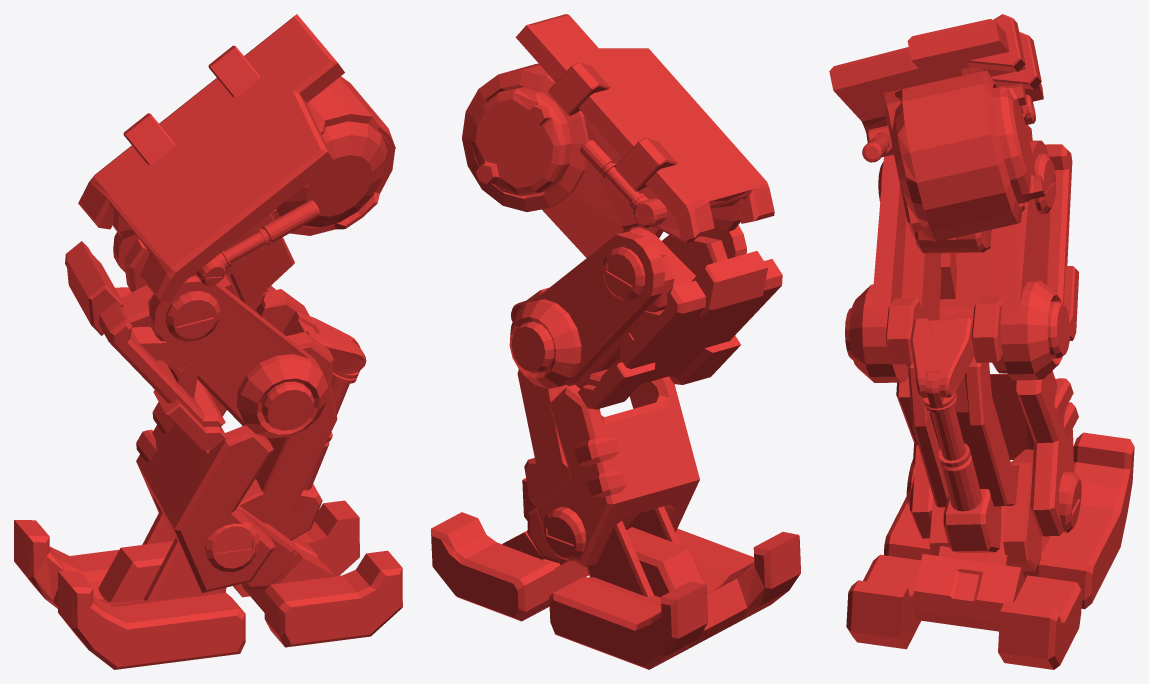
File: left_leg.dae
3 views of the same model, side by side, from view 1: azimuth 30°, elevation 25°; view 2: azimuth 150°, elevation 25°; view 3: azimuth 270°, elevation 25° (orthographic). The views are drawn at different scales.
Visible parts, largest first — view 1: tmp_export_left_leg; view 2: tmp_export_left_leg; view 3: tmp_export_left_leg.
Boxes of the visible parts, bbox=[...] form: tmp_export_left_leg: bbox=[14, 14, 402, 669]; tmp_export_left_leg: bbox=[431, 14, 800, 669]; tmp_export_left_leg: bbox=[829, 14, 1134, 669].
Size of the model in its own units: 0.1275 by 0.0959 by 0.2168.
